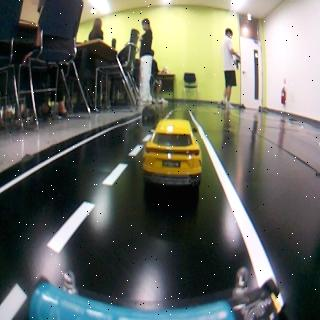car: (140, 119, 202, 183), (140, 104, 158, 120)
